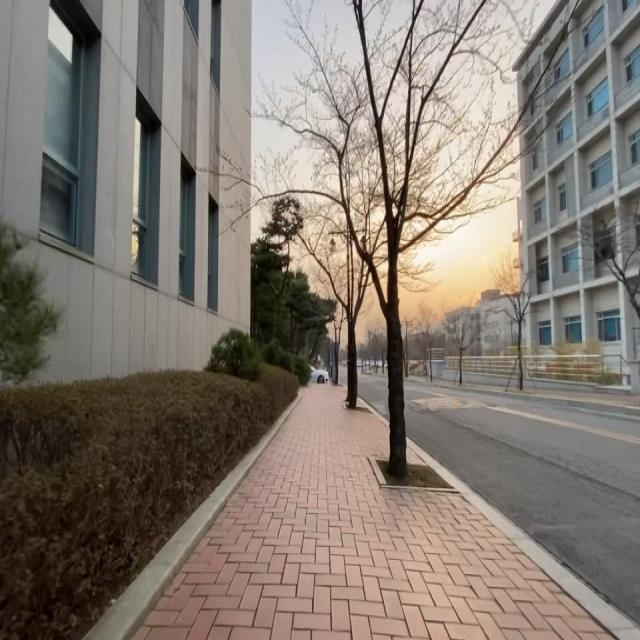sidewalk: (131, 386, 640, 640), (458, 383, 640, 407)
